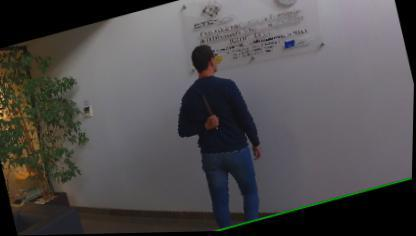knife: (199, 90, 222, 131)
